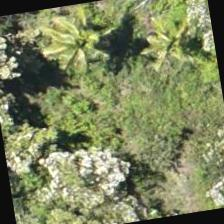Kelapa_Sawit: (118, 0, 221, 91), (37, 0, 140, 91)
